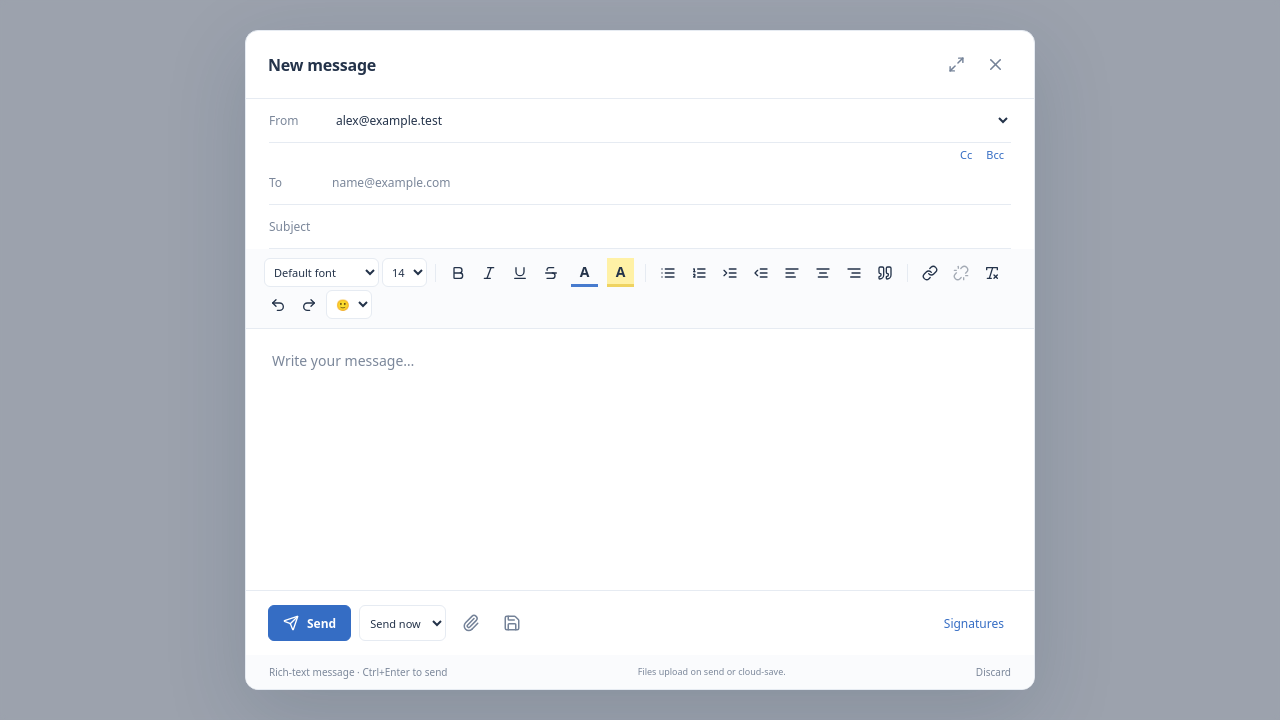
Test: composer regression review › Escape in the link text field closes that editor, not the composer
Click the button named "Insert link (Ctrl+K)": (930, 272) [916,258,944,287]
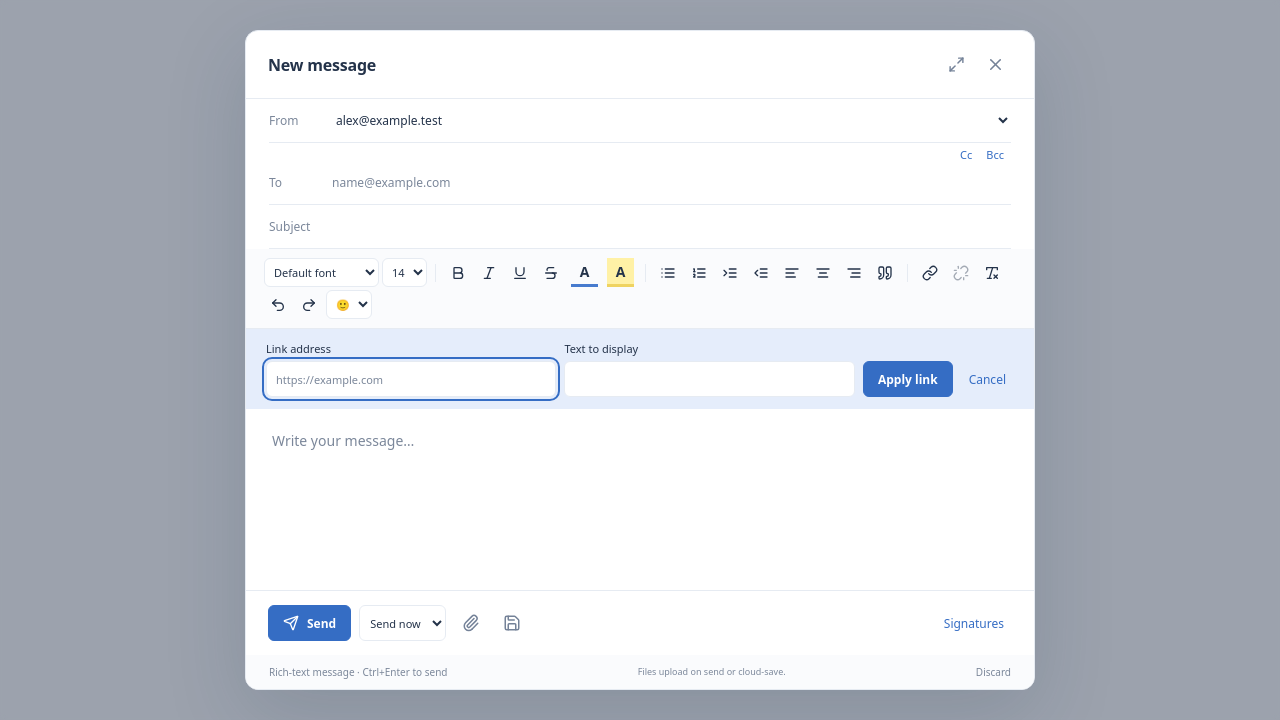
Click the field labelled "Text to display": (710, 379) [564,361,855,397]
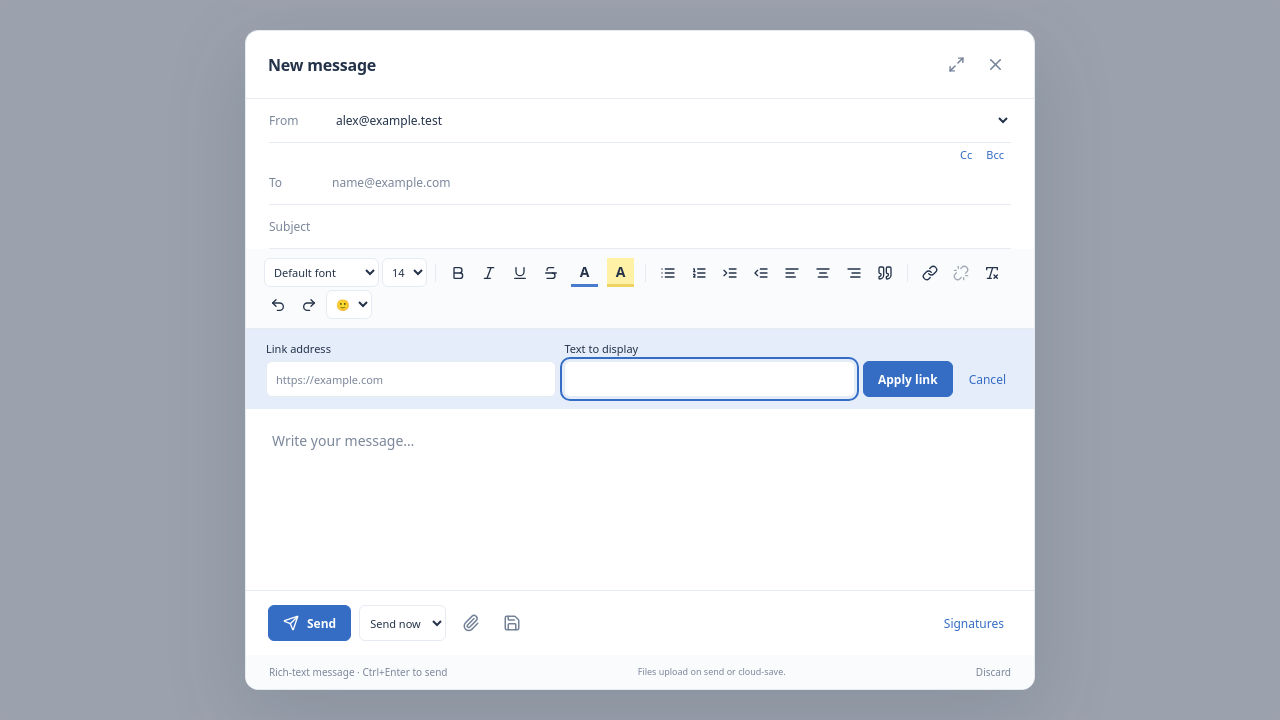
Press Escape
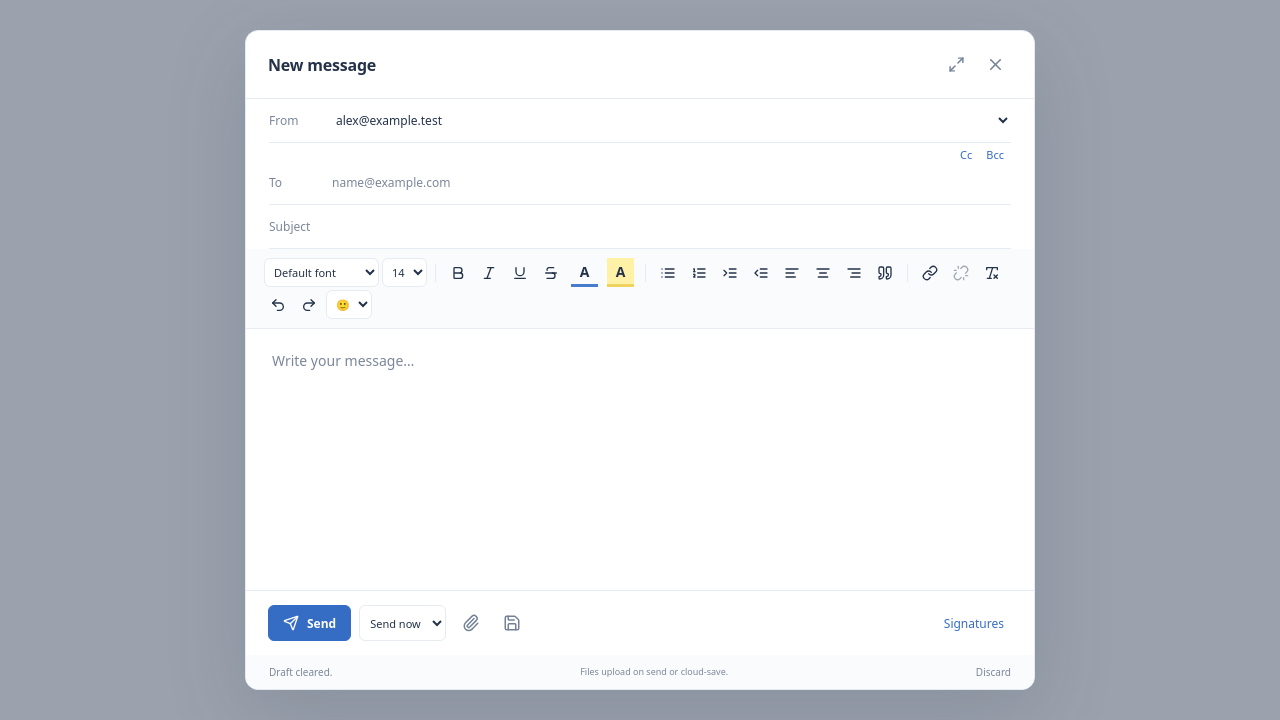
Expected: the dialog "New message" is shown, [245,30,1035,690]
Result: the label labelled "Link address" is gone
